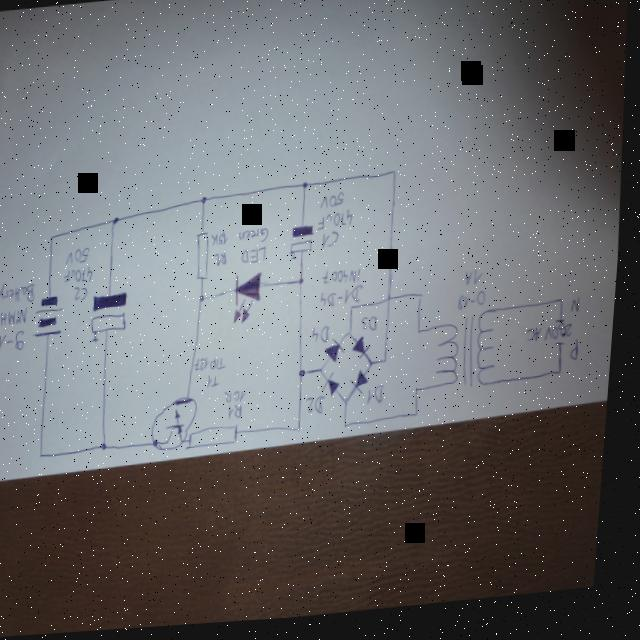capacitor: (91, 293, 135, 347), (292, 228, 320, 266)
crossover: (391, 302, 397, 309)
diode: (236, 274, 270, 329), (355, 341, 378, 371), (355, 374, 376, 402), (330, 378, 348, 404), (331, 347, 349, 370)
junction: (303, 184, 313, 196), (114, 217, 124, 229), (106, 443, 116, 455), (202, 296, 211, 309), (301, 281, 310, 291), (304, 374, 313, 383), (423, 298, 430, 308), (205, 199, 211, 210), (350, 403, 357, 412), (563, 305, 570, 313), (563, 377, 570, 385), (394, 175, 401, 183), (45, 453, 52, 461), (325, 371, 331, 380), (352, 336, 359, 343), (355, 310, 361, 318), (375, 365, 381, 373), (350, 428, 356, 435), (53, 235, 59, 242), (422, 335, 428, 341), (420, 418, 426, 424), (389, 363, 394, 370), (421, 393, 426, 400), (303, 431, 308, 438)
resistor: (192, 426, 246, 453), (196, 232, 217, 286)
source: (36, 295, 72, 340)
terminal: (560, 349, 572, 356), (560, 326, 571, 333)
text: (1, 280, 41, 308), (324, 290, 367, 315), (531, 331, 579, 353), (326, 272, 368, 293), (320, 214, 358, 236), (0, 331, 30, 356), (67, 266, 99, 287), (462, 297, 492, 318), (199, 359, 233, 377), (4, 309, 34, 329), (69, 247, 95, 268), (244, 249, 272, 268), (241, 231, 272, 248), (322, 197, 349, 215), (371, 390, 393, 412), (312, 399, 333, 421), (467, 274, 489, 294), (316, 329, 338, 349), (574, 342, 588, 371), (230, 393, 253, 410), (366, 320, 385, 339), (326, 235, 344, 254), (234, 406, 252, 424), (214, 235, 232, 252), (218, 254, 233, 271), (78, 287, 93, 303), (212, 377, 226, 392), (576, 306, 587, 322)
transformer: (438, 314, 507, 400)
transistor: (154, 398, 207, 456)
